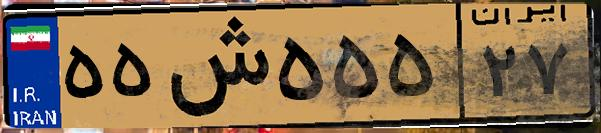2: (475, 38, 525, 113)
5: (270, 28, 330, 110), (385, 28, 445, 110), (330, 28, 385, 110), (57, 26, 110, 100), (110, 28, 158, 98)
7: (525, 38, 570, 115)
ش: (158, 12, 270, 120)
